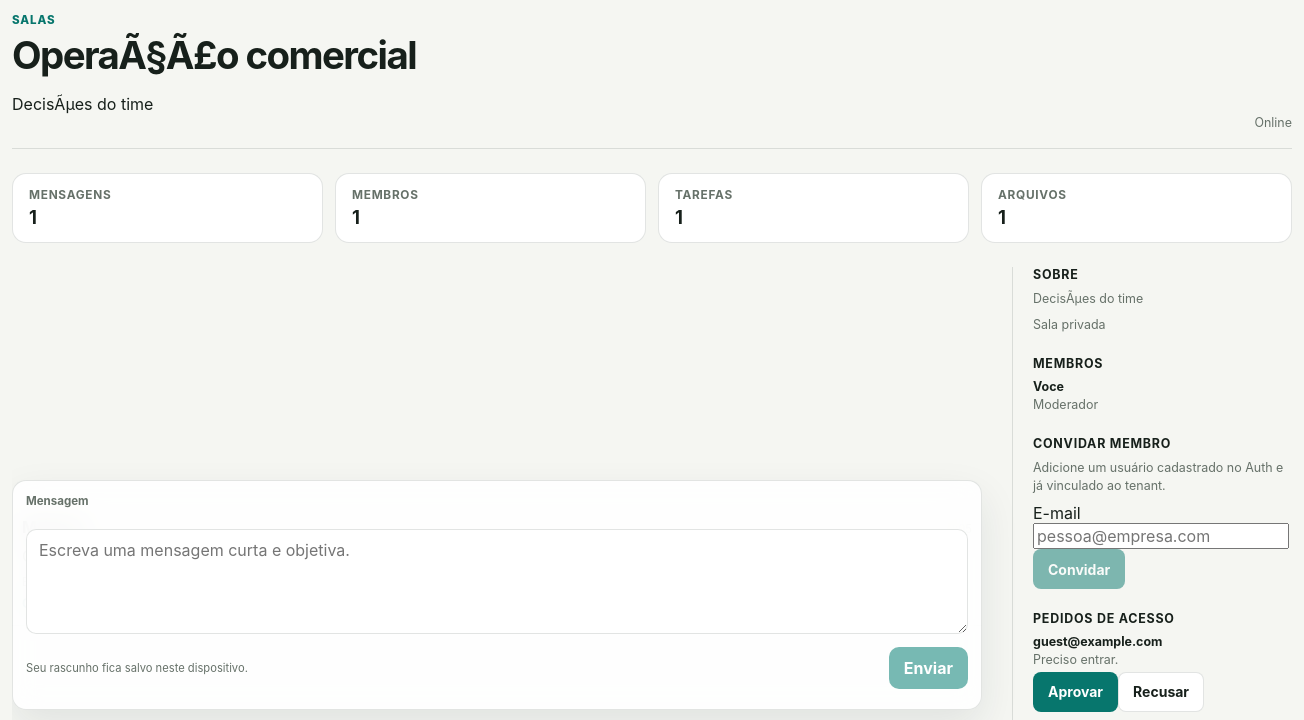
it: ConversationsWorkspace › uses the URL roomId, renders timeline context and reconciles an idempotent send
This screenshot has width=1304, height=720.
Check: the text "Contexto confirmado" is shown, box [22, 546, 182, 566]
Check: the element named "Mensagens da sala" is shown, box [12, 503, 982, 626]
Type "Nova decisao" into the text box labelled "Mensagem" at point(497, 581), box [26, 529, 968, 634]
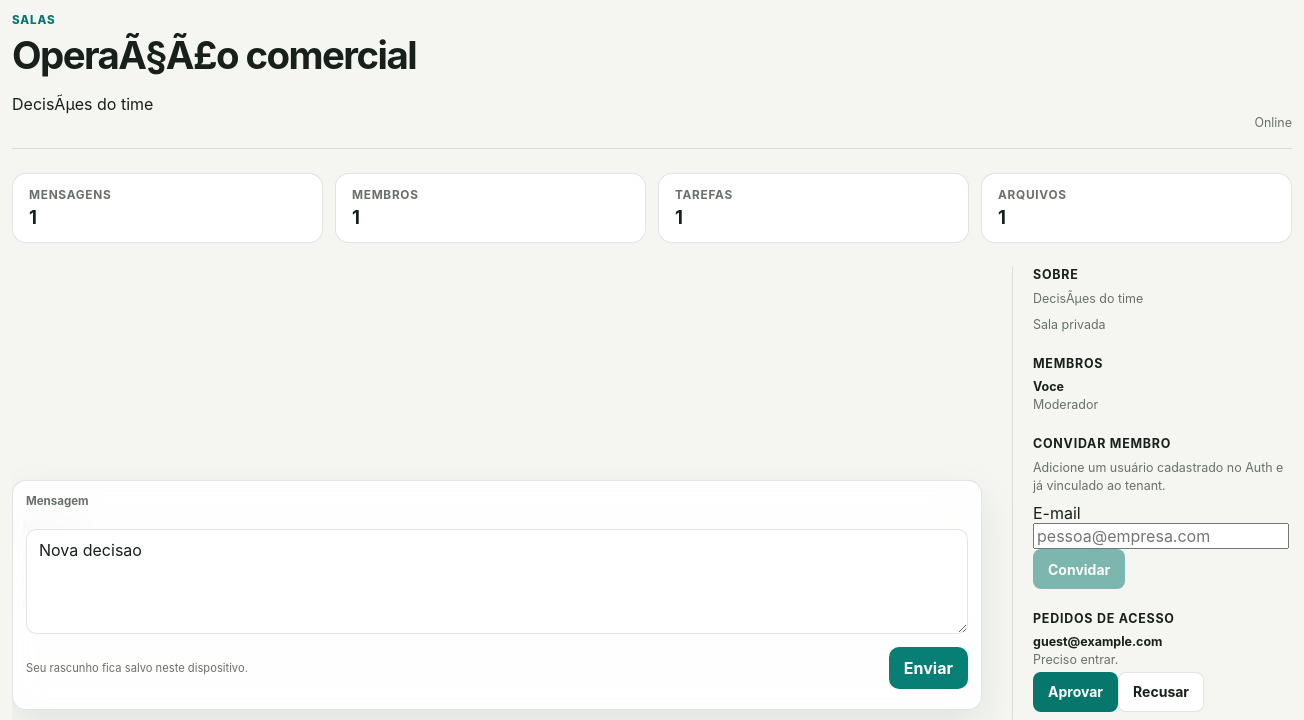
Click the button "Enviar" at point(928, 668), box [889, 647, 968, 689]
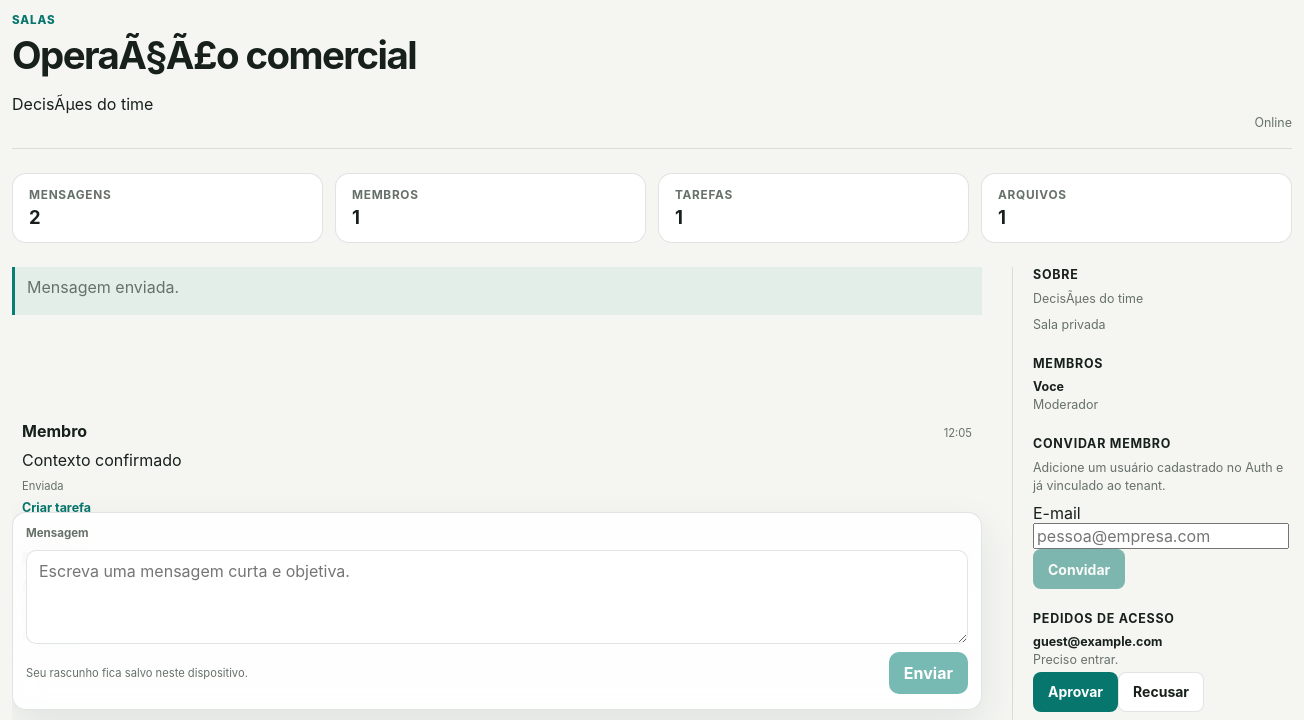
Check: the text "Voce" is shown, box [1033, 379, 1064, 394]
Check: the text "Nova decisao" is shown once, box [22, 577, 125, 597]
